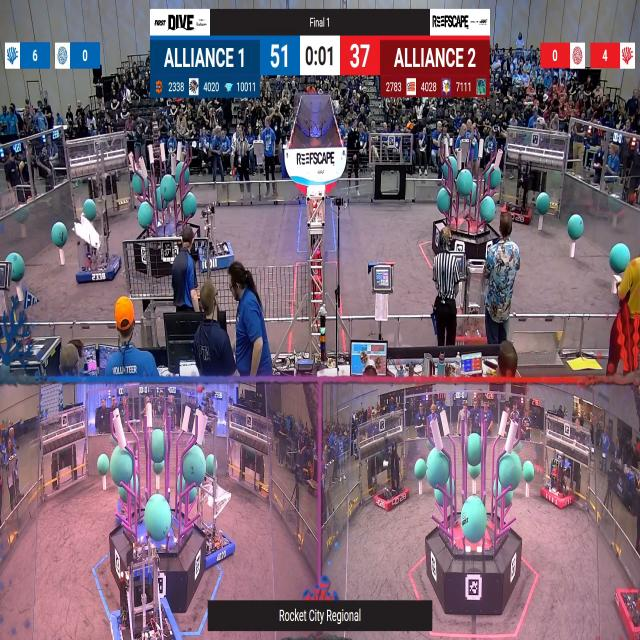scoreboard: (150, 37, 490, 97)
